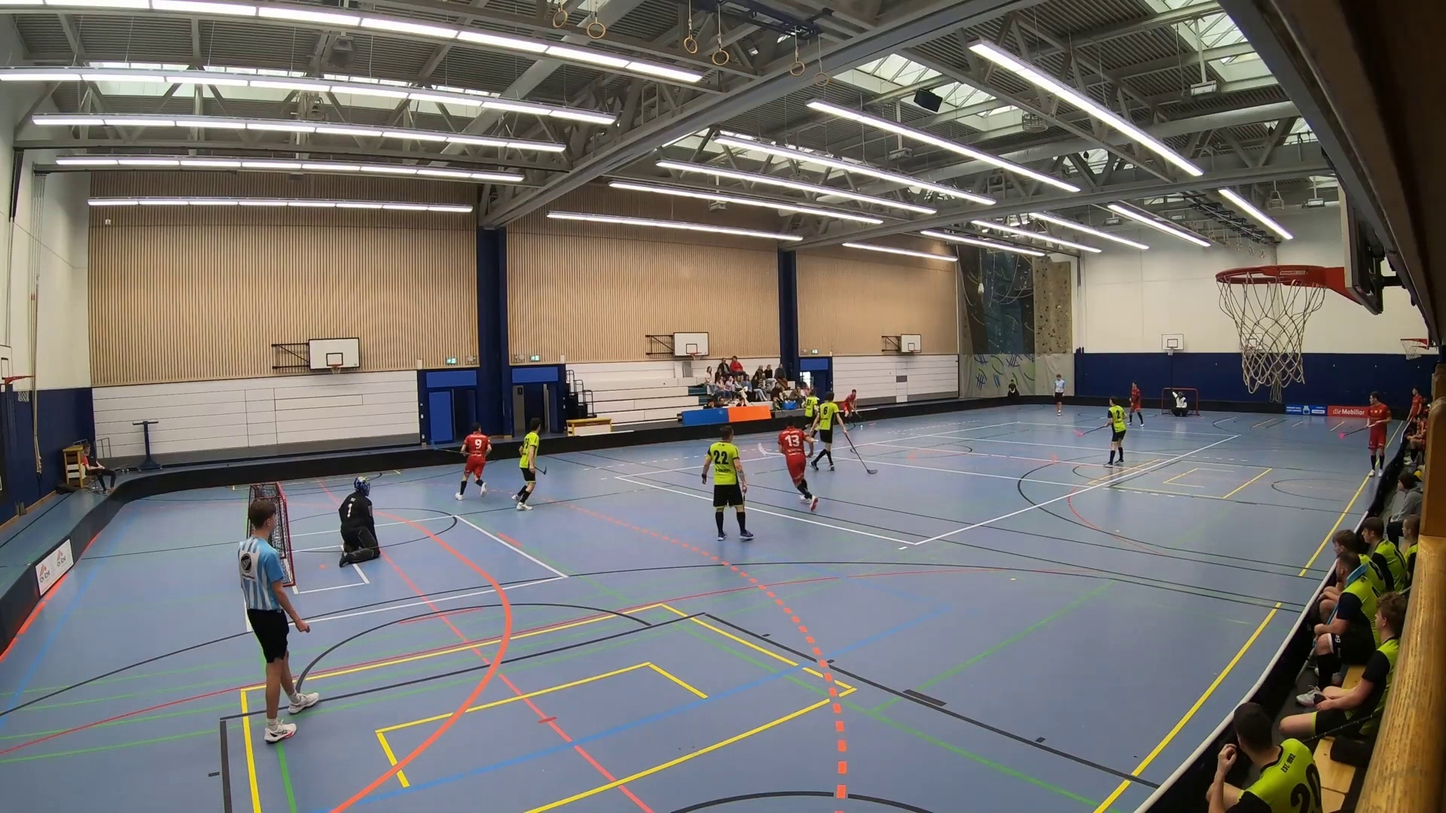Schiri: (219, 495, 335, 750), (1045, 368, 1069, 422)
ball: (859, 423, 865, 430)
goalkeeper: (324, 464, 398, 586), (1166, 385, 1191, 422)
player: (675, 431, 773, 570), (807, 390, 896, 485), (753, 410, 820, 518), (1319, 388, 1388, 479), (438, 409, 494, 521), (498, 416, 563, 511), (1074, 395, 1136, 481), (1117, 378, 1147, 433), (802, 385, 822, 436), (1401, 385, 1421, 424)
